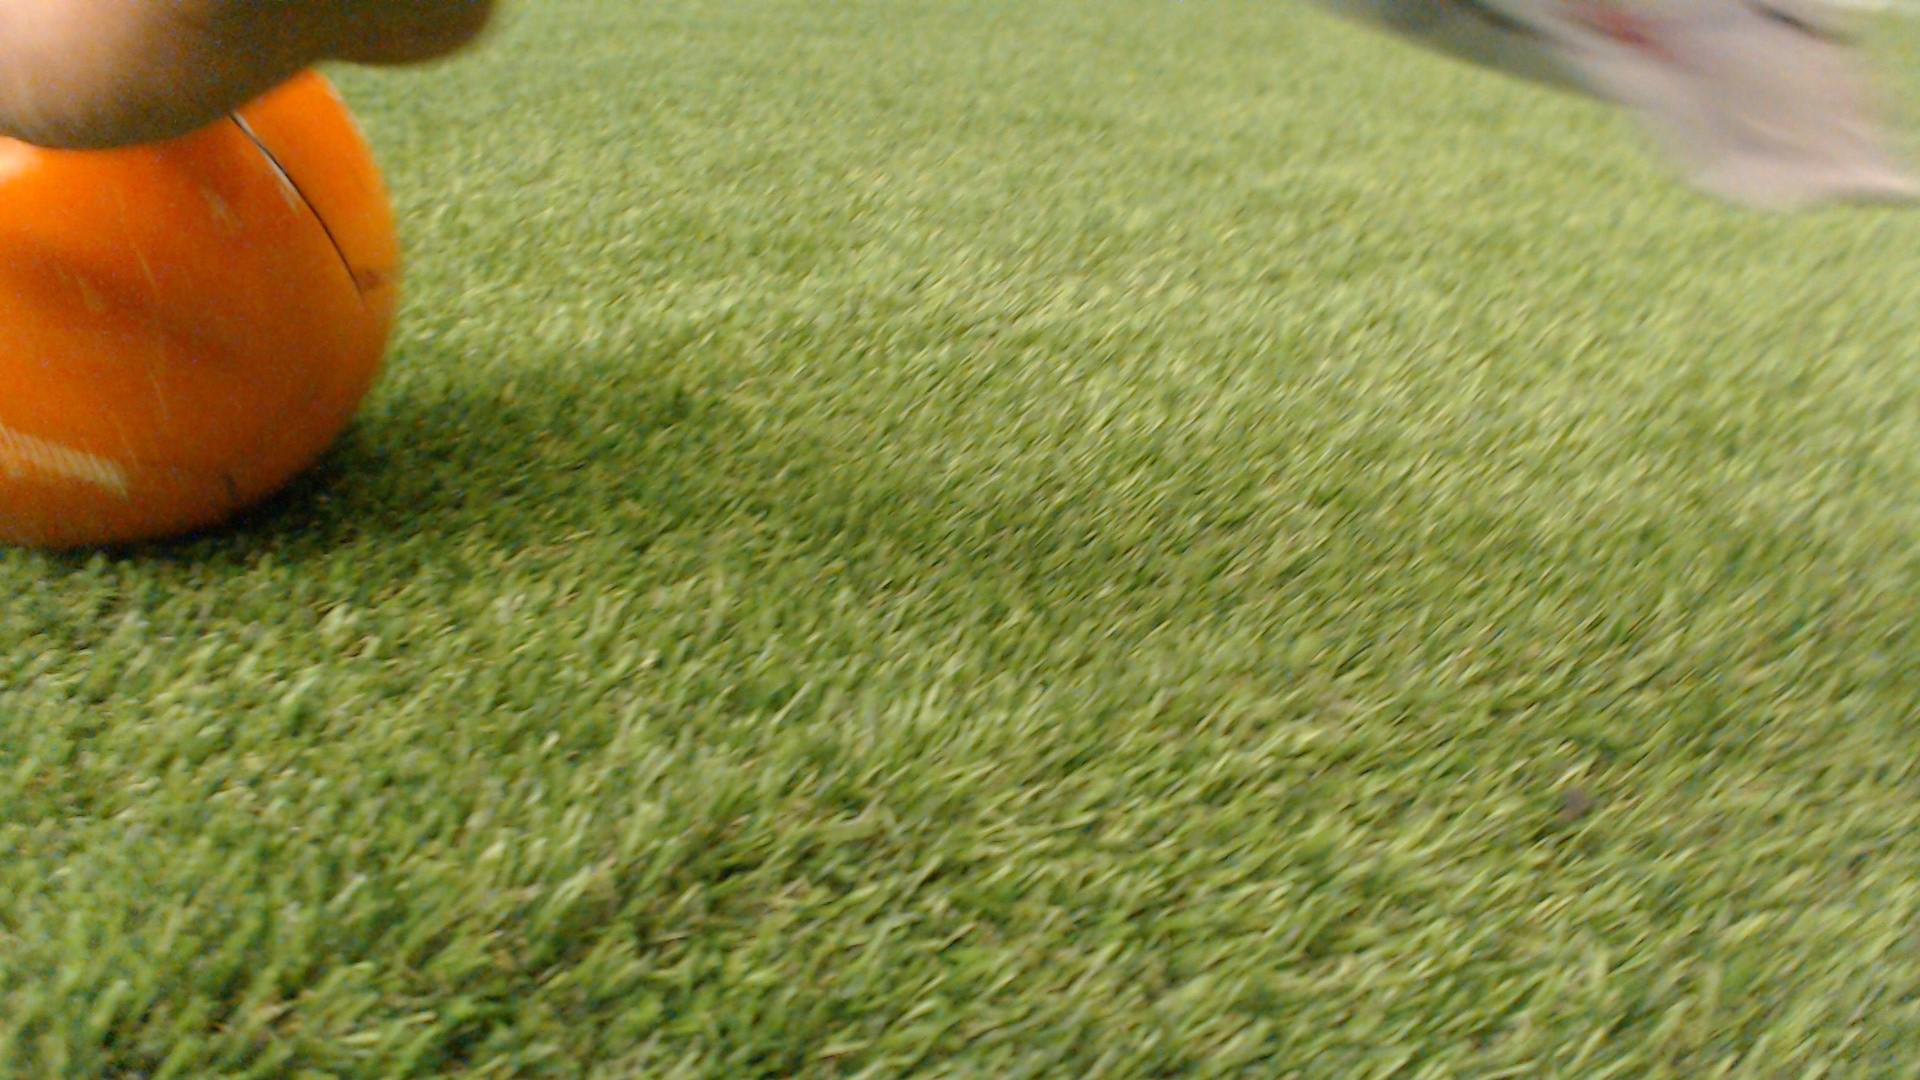bola: (0, 136, 439, 602)
